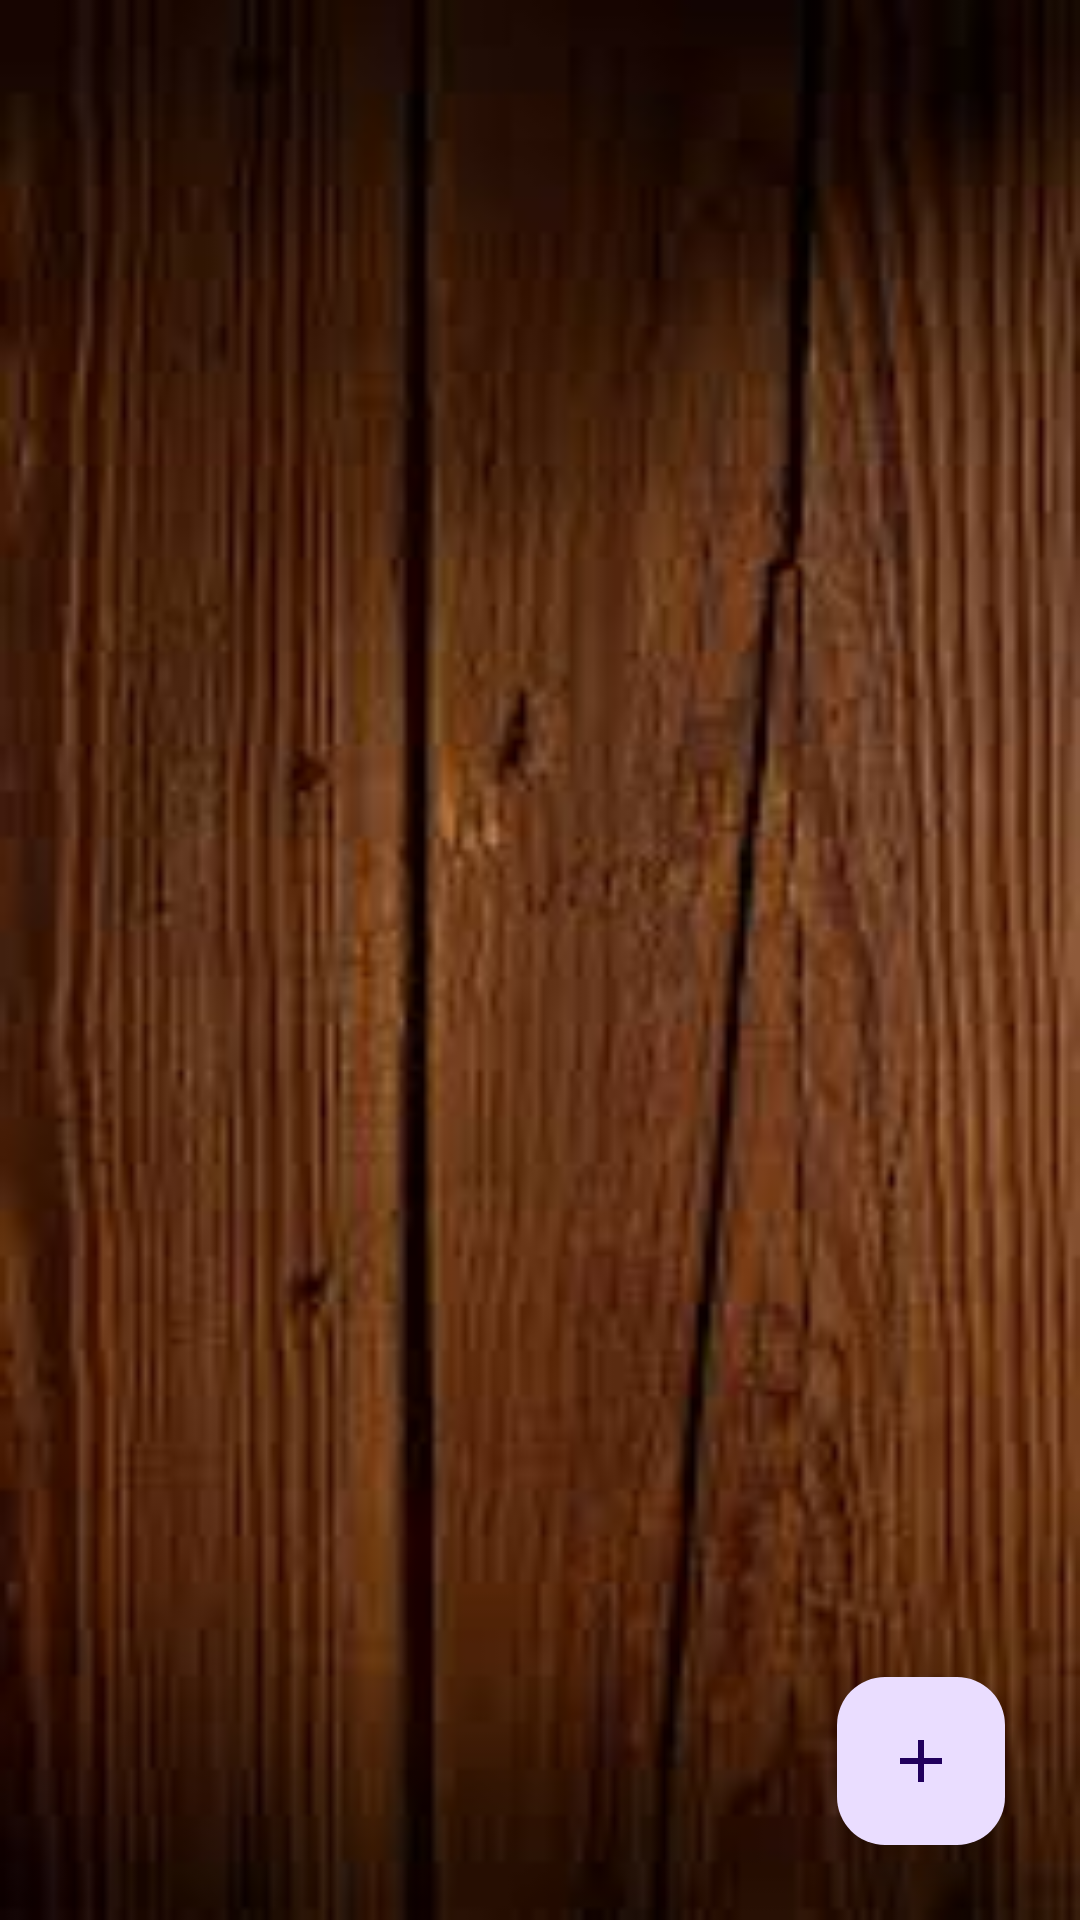

Icon bounding boxes for this 1080×1920 phone screenshot, format (x1, y1, x2, y2):
add: (837, 1677, 1005, 1845)
